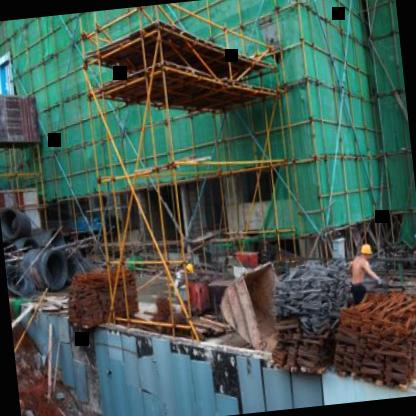helmet: (357, 238, 376, 266)
